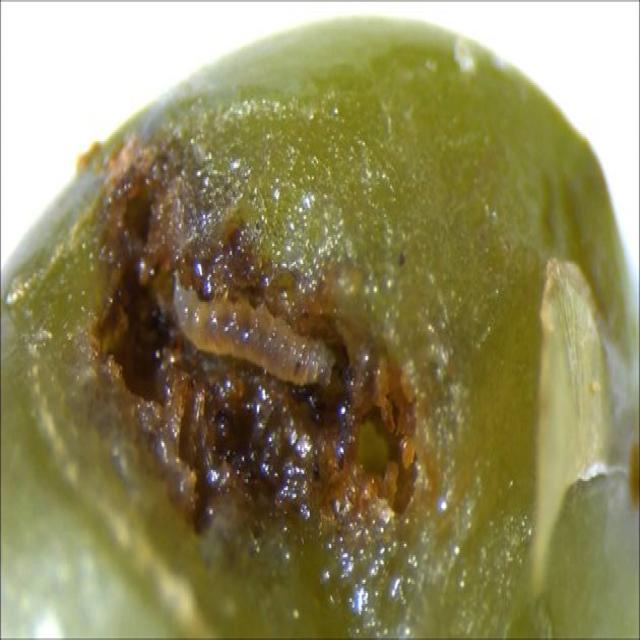Olive Fruit Fly: (91, 136, 441, 607)
